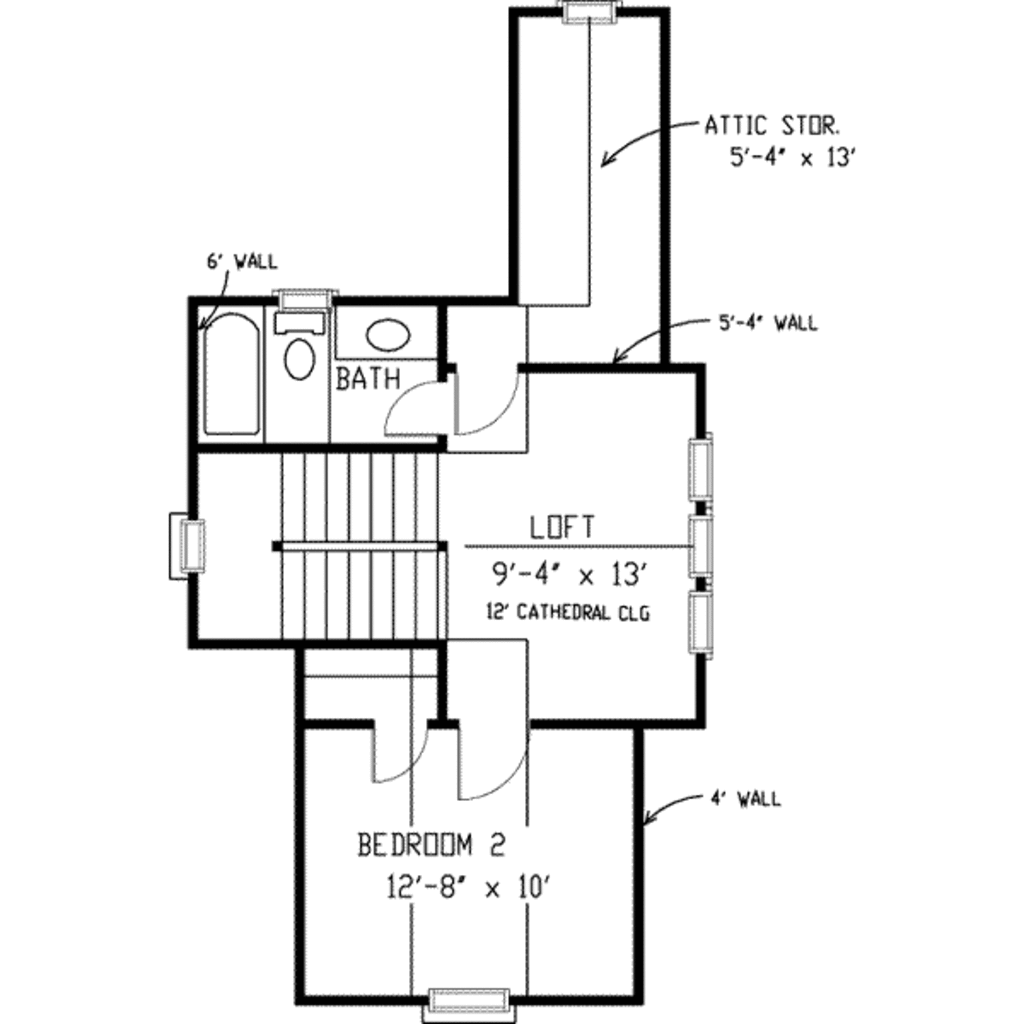door: (438, 716, 527, 800), (448, 360, 519, 433), (366, 716, 434, 785), (378, 383, 450, 436)
large_sink: (267, 307, 334, 383)
small_sink: (325, 303, 452, 366)
stairs: (238, 446, 488, 638)
tub: (194, 300, 267, 442)
window: (161, 500, 216, 586), (422, 983, 526, 1024), (683, 583, 723, 655), (688, 425, 719, 507), (546, 1, 623, 27), (691, 514, 720, 580)
